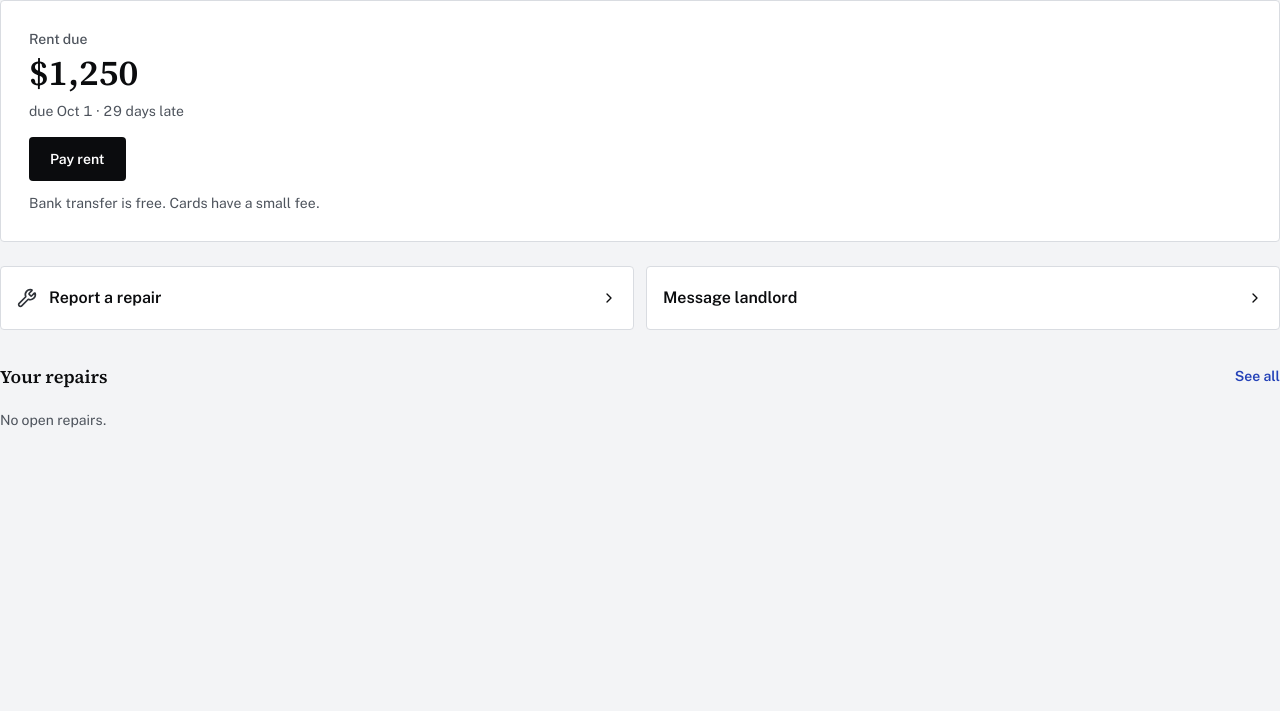
Test: TenantOverview outside-Domus status › submits pay from the overview and displays an error and pending label
Click the button "Pay rent" at (77, 159), box 29,137 -> 126,181
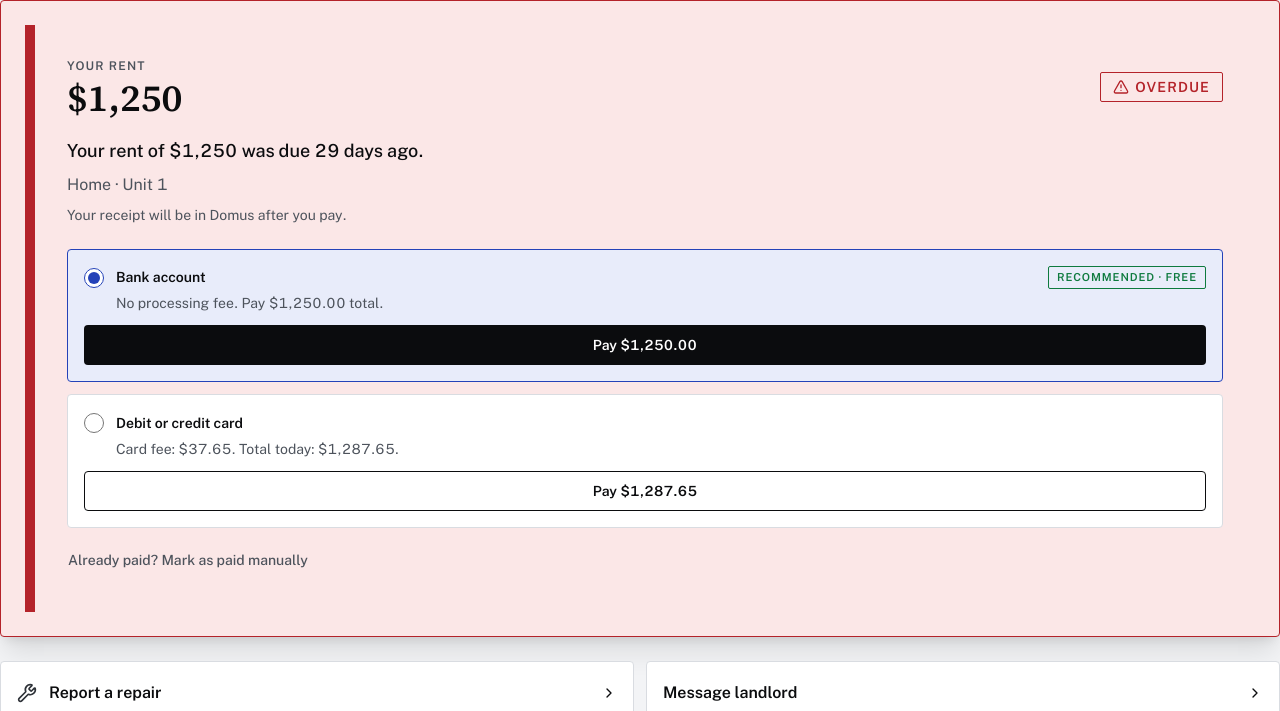
Submit the form "Pay $1,287.65", box 84,470 -> 1206,510
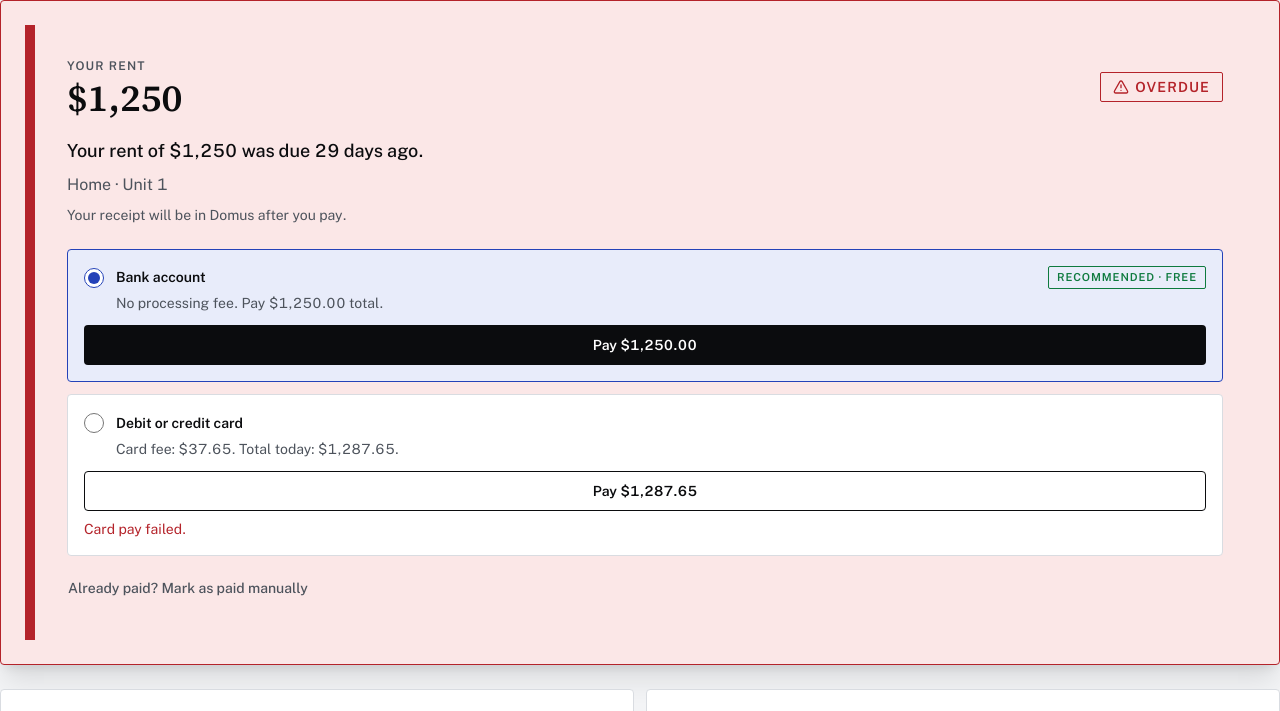
Expected: the message reads "Card pay failed.", 84,520 -> 186,536
